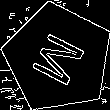M_SE: (25, 26, 91, 90)
